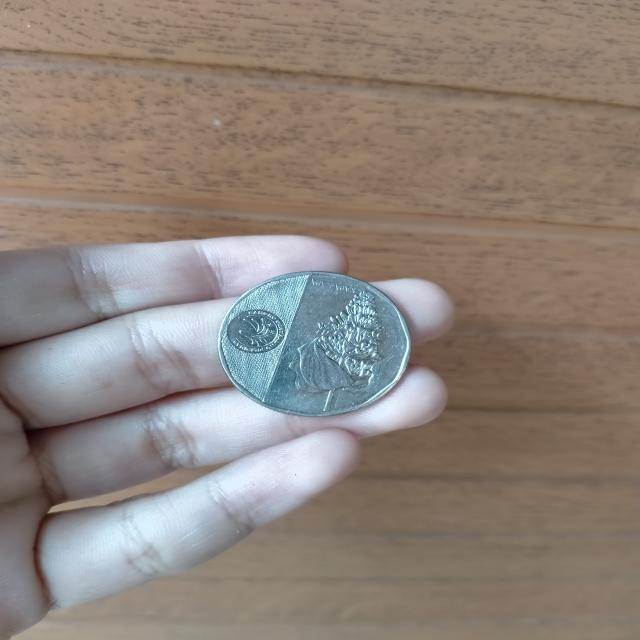10_New_Back: (283, 276, 409, 420)
